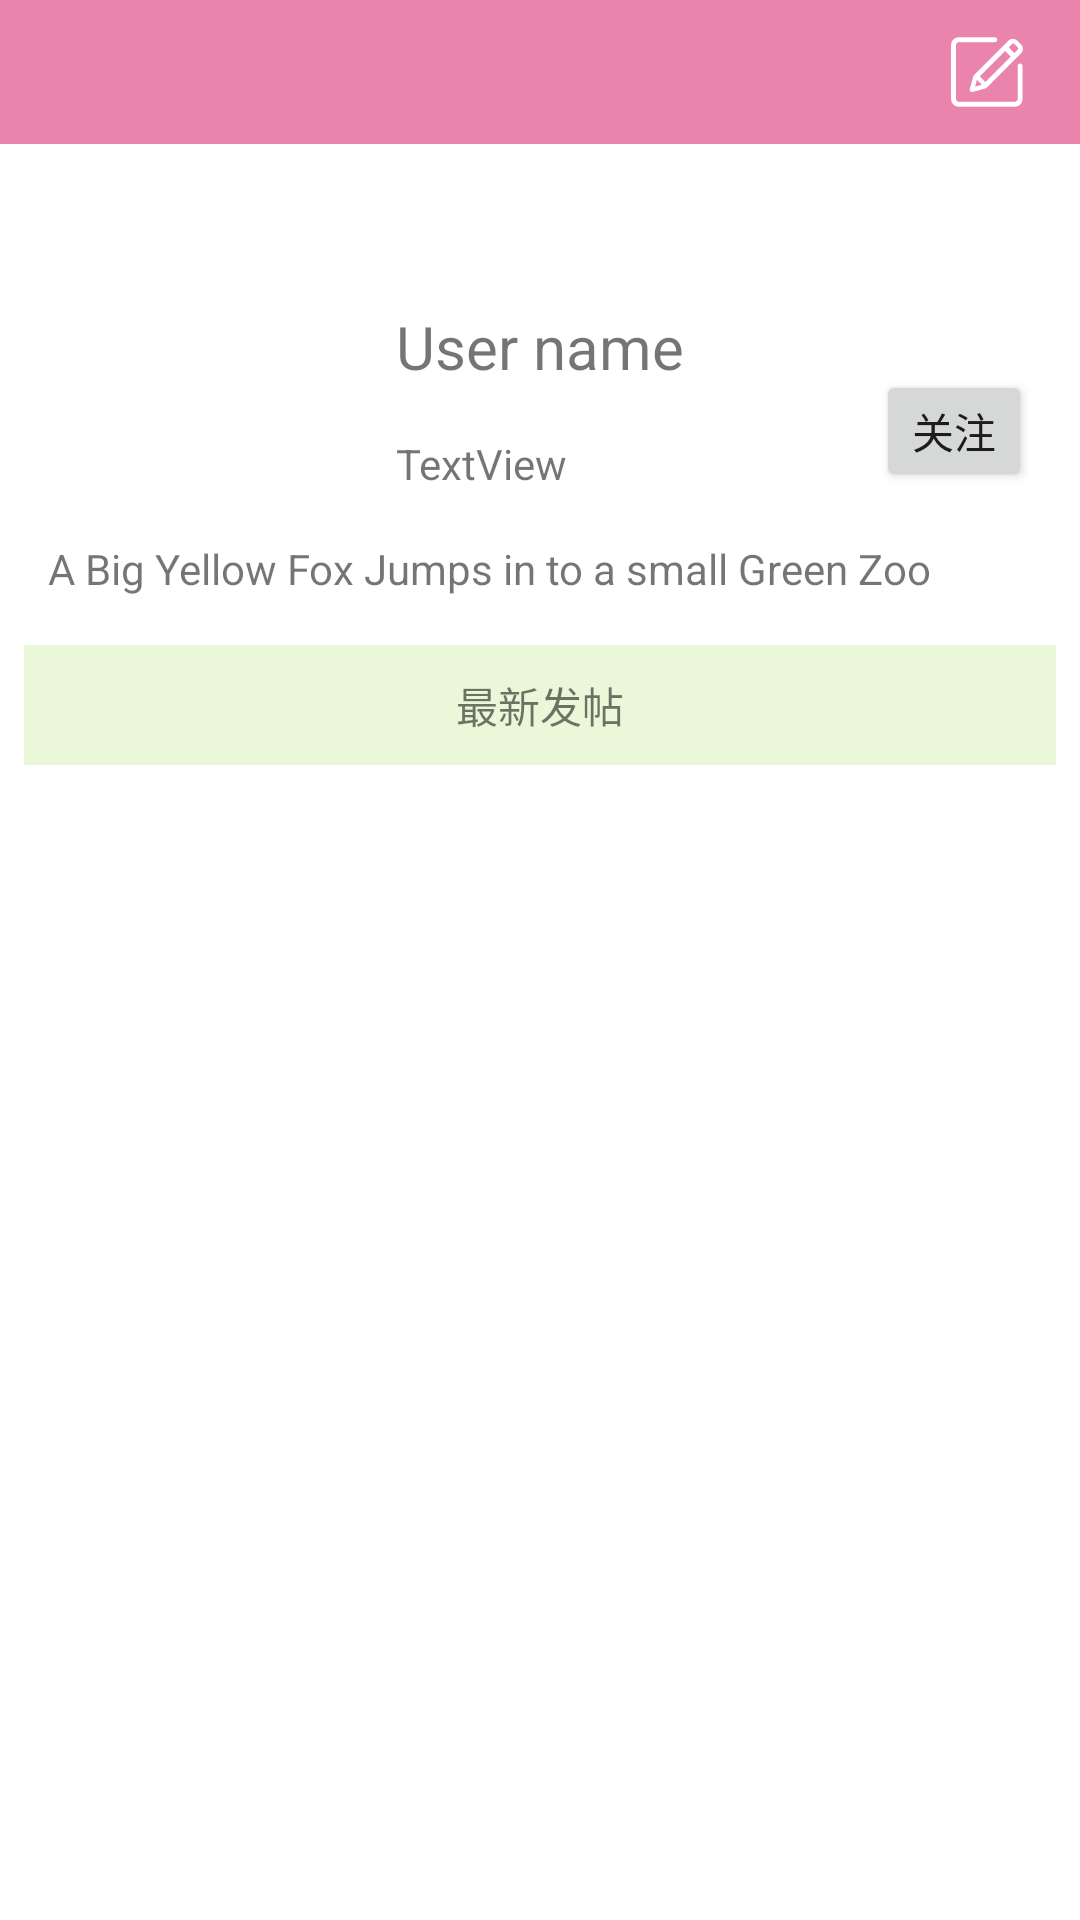

Named icons in this screenshot (1080px×1920px) and their centers, [x,y]:
editinfo: [987,72]
